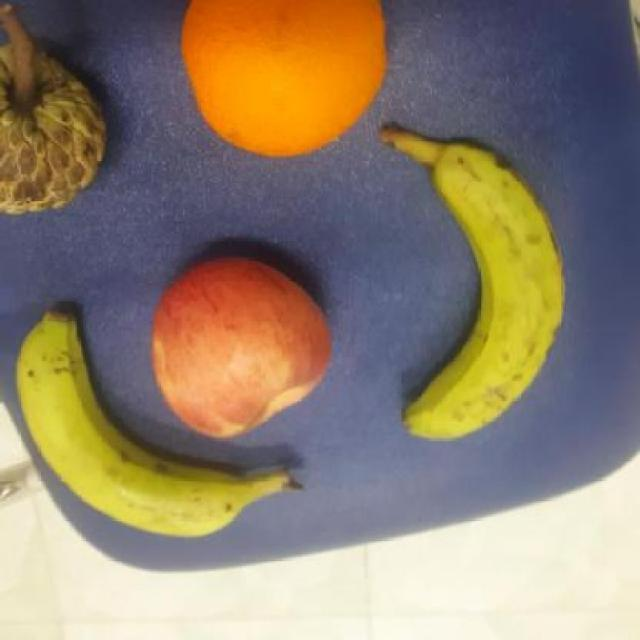apple: (151, 248, 334, 446)
banana: (387, 142, 568, 456), (11, 301, 246, 539)
oren: (184, 0, 388, 160)
sugar apple: (0, 40, 112, 220)
